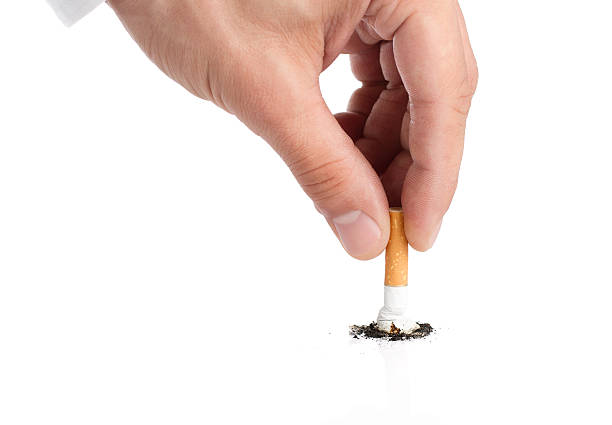cigarette: (365, 211, 430, 337)
